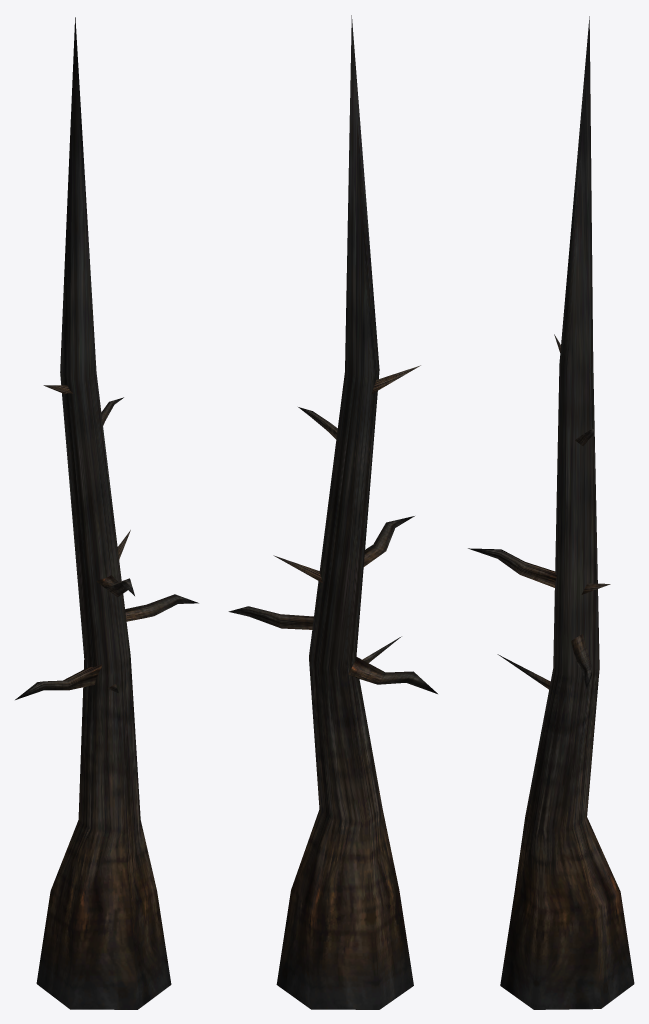
The model's file is burningsteppestree02.glb.
3 renders of one model, left to right at view 1: azimuth 30°, elevation 25°; view 2: azimuth 150°, elevation 25°; view 3: azimuth 270°, elevation 25°, orthographic. The views are drawn at different scales.
Bounding box in the file's own units: 11.51 × 54.19 × 8.52.
Materials: 1 (1 with a texture image).
